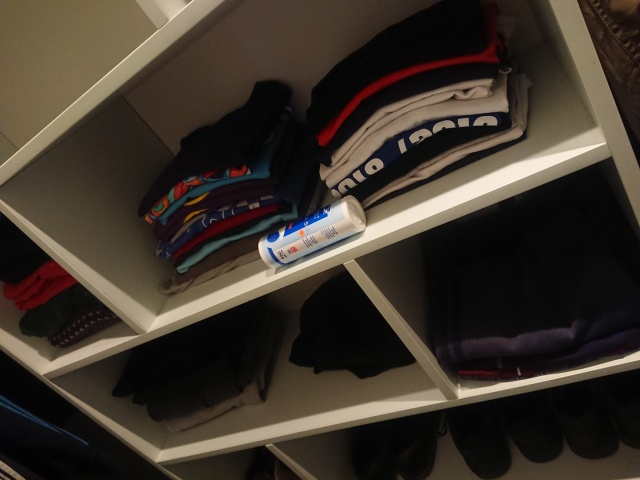Solana Pag Fine Sea Salt 250g: (255, 194, 368, 271)
